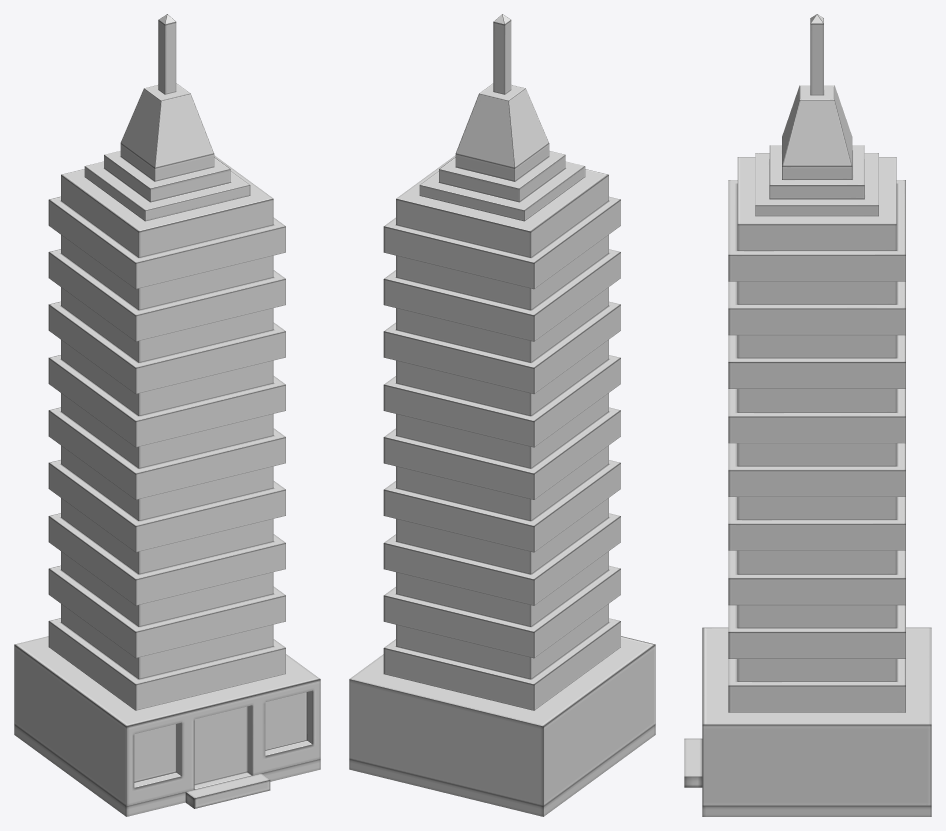
The model's file is Building-11.fbx.
3 views of the same model, side by side, from view 1: azimuth 30°, elevation 25°; view 2: azimuth 150°, elevation 25°; view 3: azimuth 270°, elevation 25° (orthographic). The views are drawn at different scales.
Visible parts, largest first — view 1: Building_11; view 2: Building_11; view 3: Building_11.
Part boxes in pixels (bbox=[...]): Building_11: bbox=[14, 14, 320, 816]; Building_11: bbox=[349, 14, 655, 816]; Building_11: bbox=[684, 14, 931, 816].
Size of the model in its own units: 2.58 by 9.38 by 2.78.
